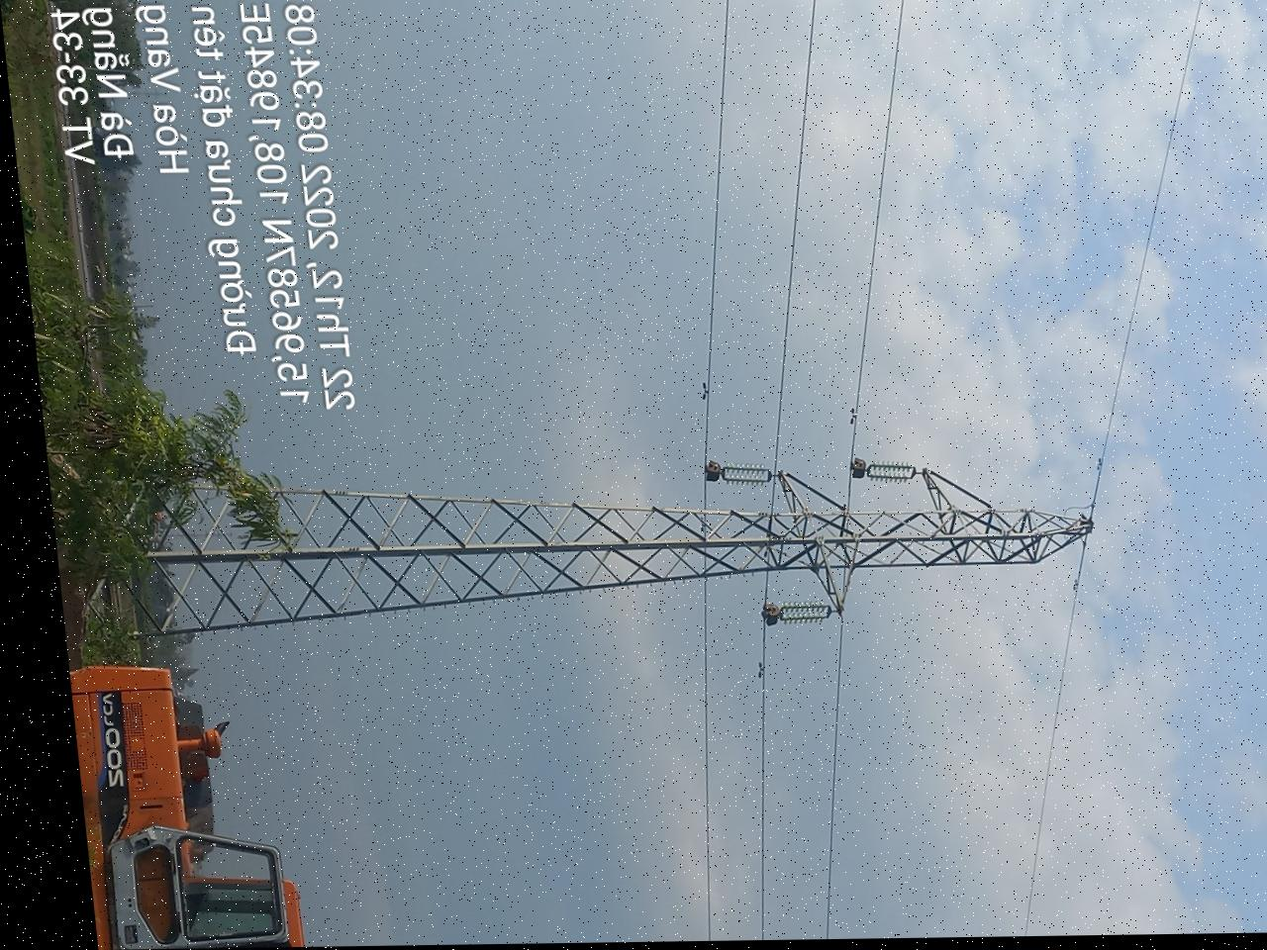tower: (815, 211, 1054, 938)
